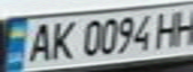0: (78, 16, 103, 57), (100, 15, 121, 55)
4: (133, 11, 157, 52)
9: (115, 12, 139, 54)
A: (21, 20, 54, 63)
H: (151, 8, 187, 50), (172, 6, 193, 46)
K: (45, 18, 78, 61)
